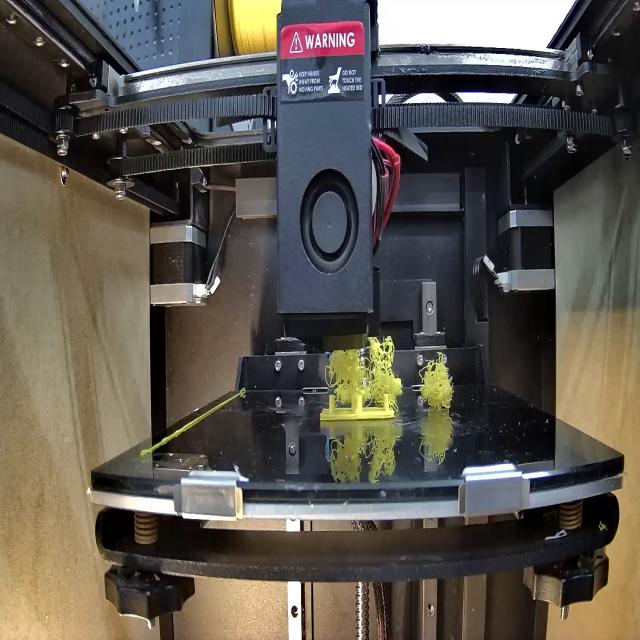spaghetti: (322, 336, 404, 400), (416, 357, 454, 410)
